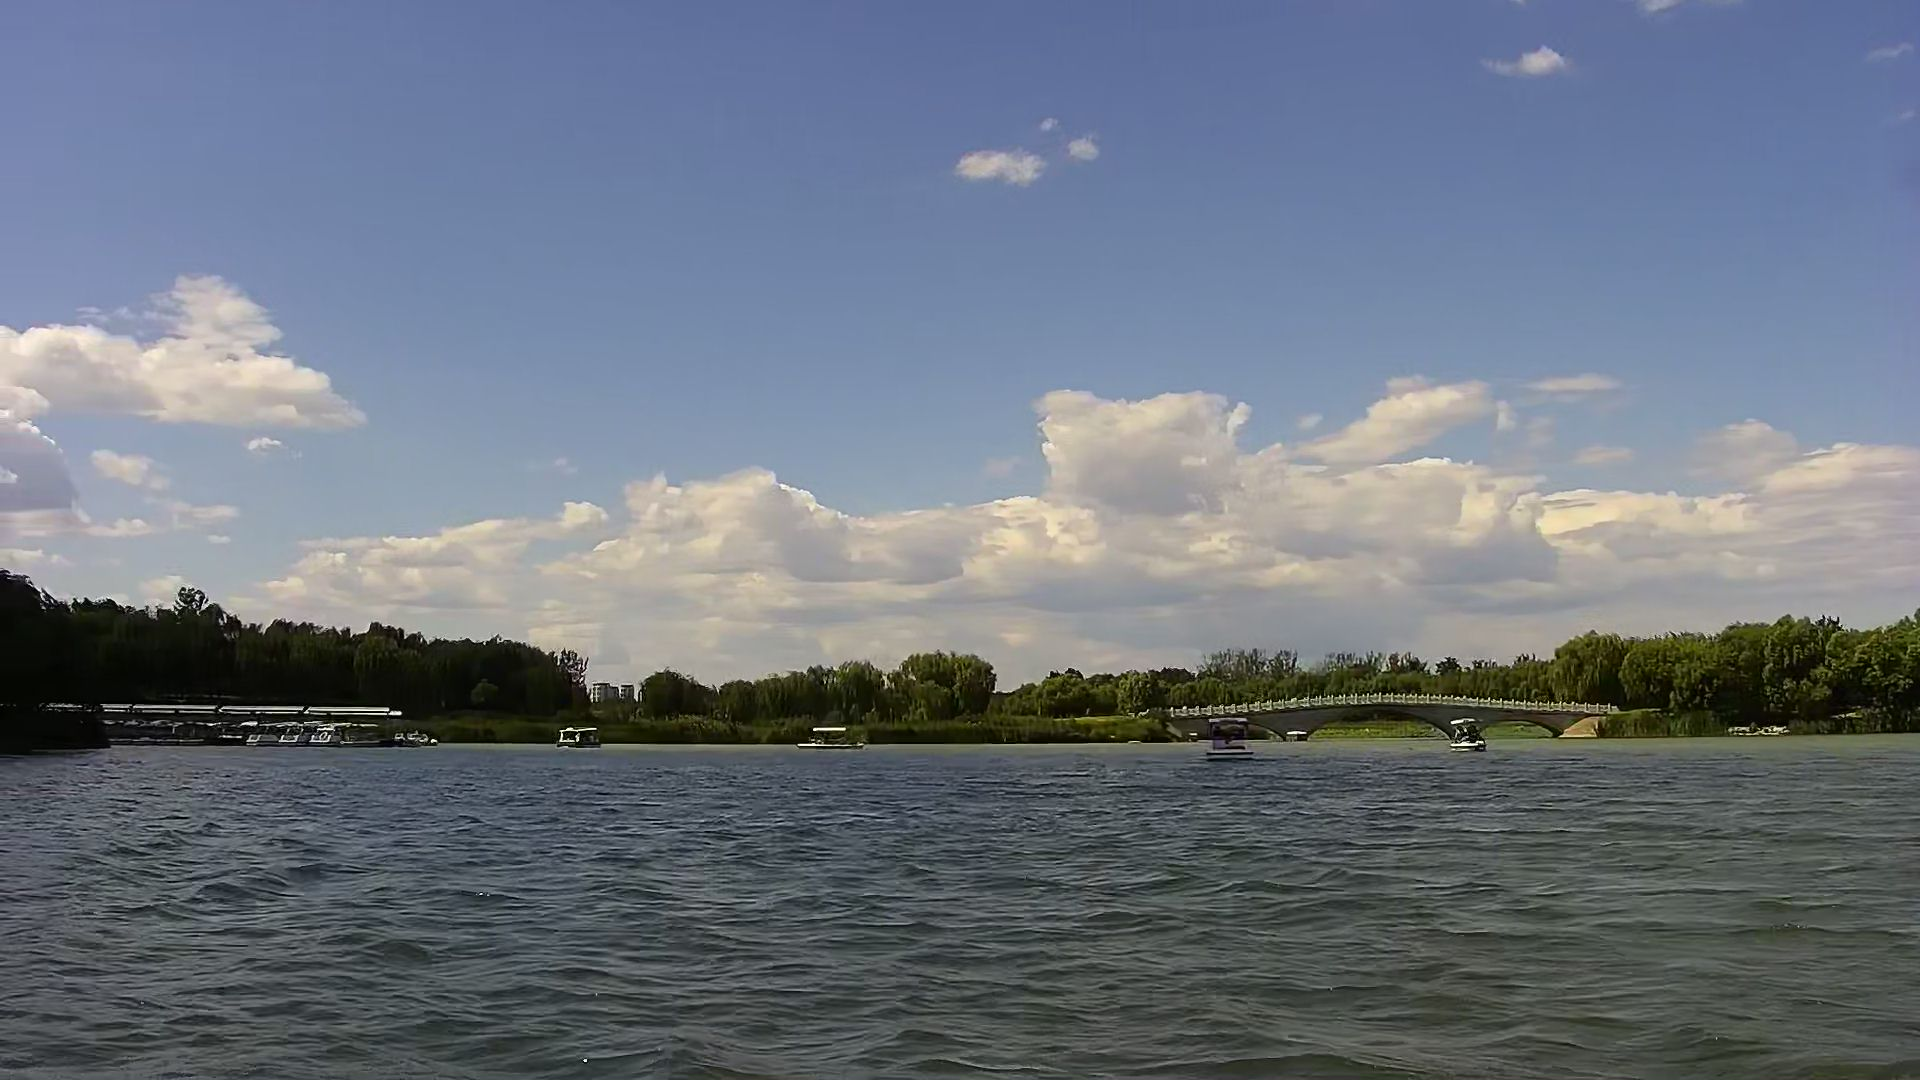boat: (1197, 712, 1269, 775), (787, 716, 873, 762), (1433, 709, 1507, 758), (313, 717, 385, 762), (547, 717, 604, 752), (276, 720, 313, 752), (243, 723, 276, 754)
bridge: (1174, 690, 1615, 736)
